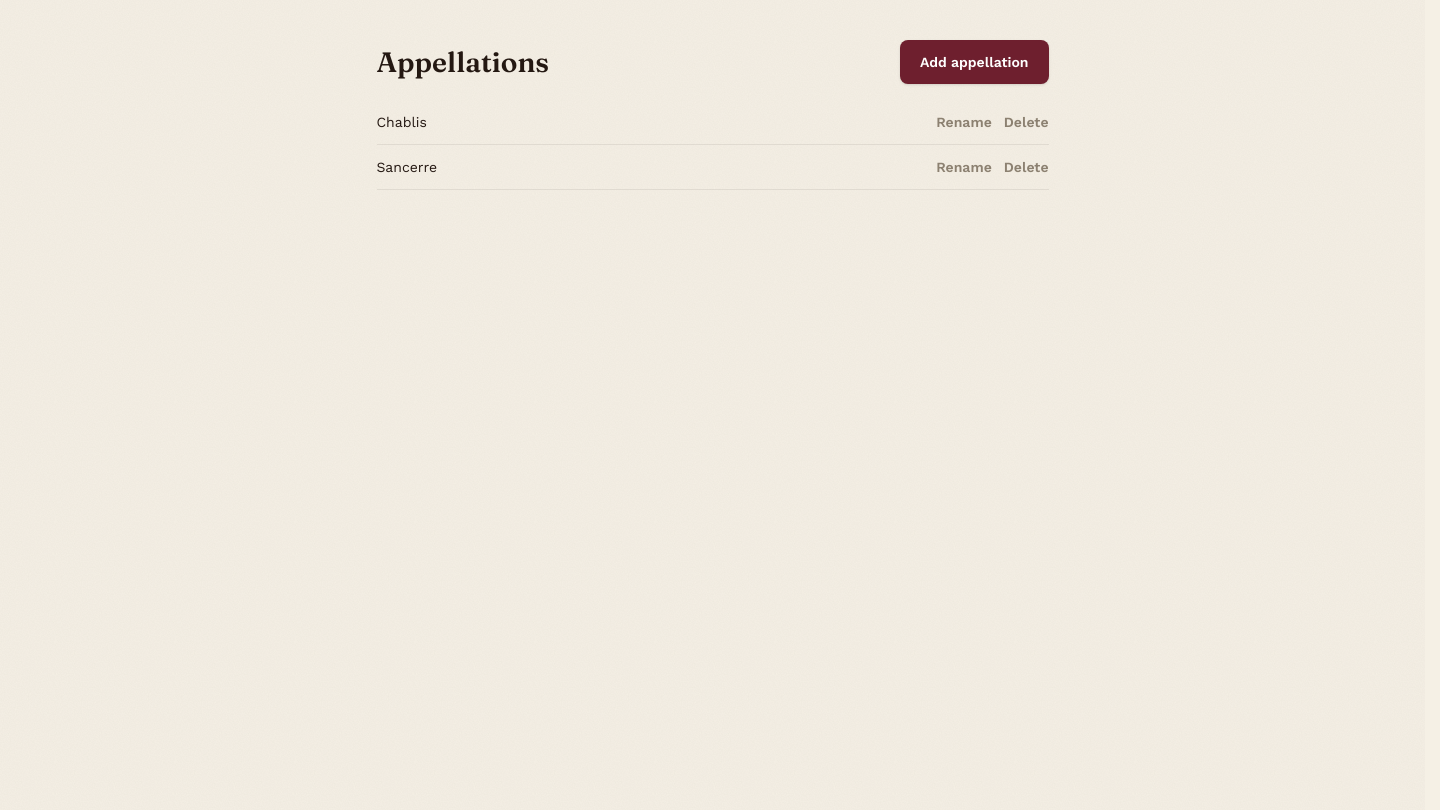
Scenario: AppellationListView › deletes the appellation when the confirm dialog is confirmed
The image size is (1440, 810).
Click the button with test id "appellation-delete-button". click: [1026, 122]
box: [1004, 112, 1049, 132]
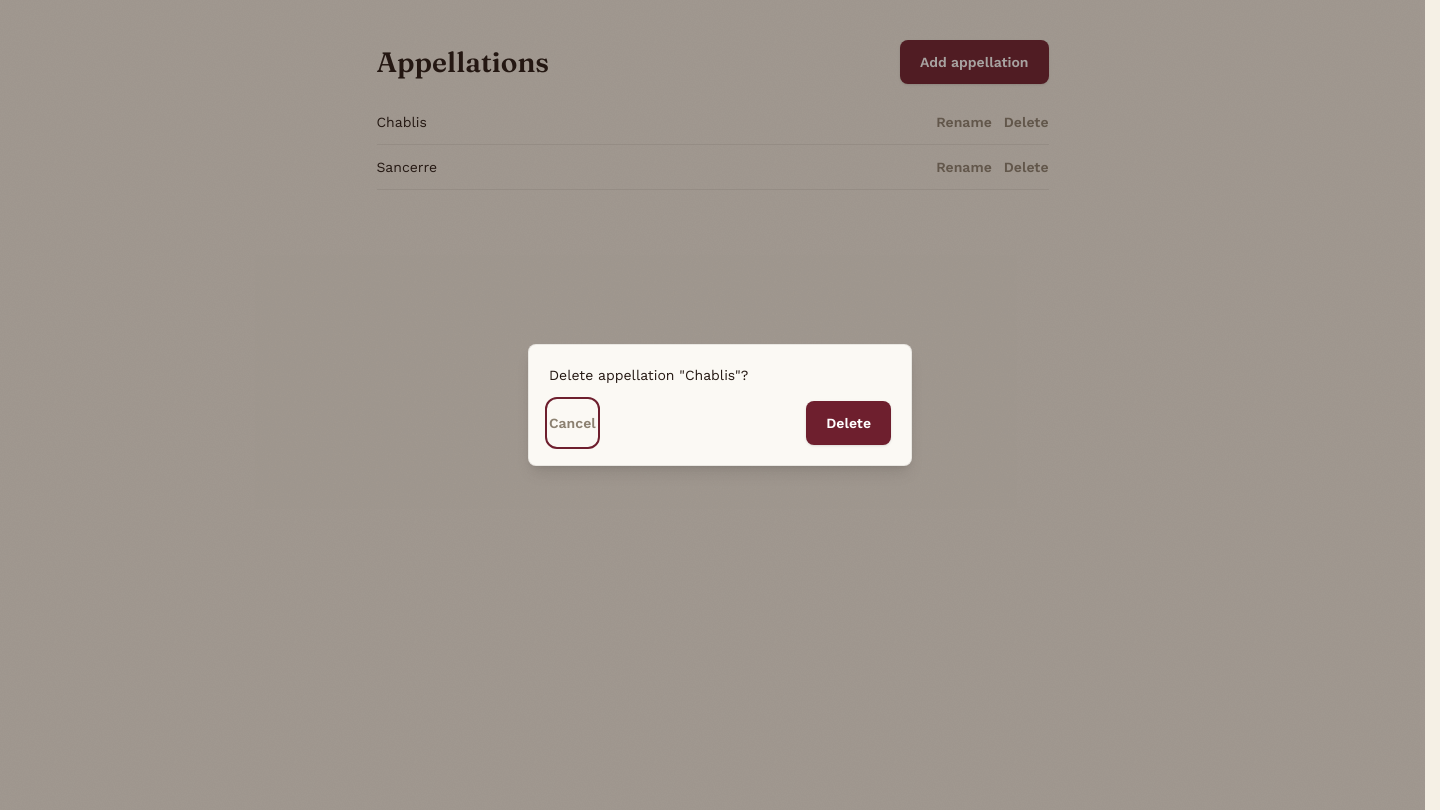
Click the button with test id "confirm-dialog-confirm". click: [849, 423]
box: [806, 401, 891, 445]
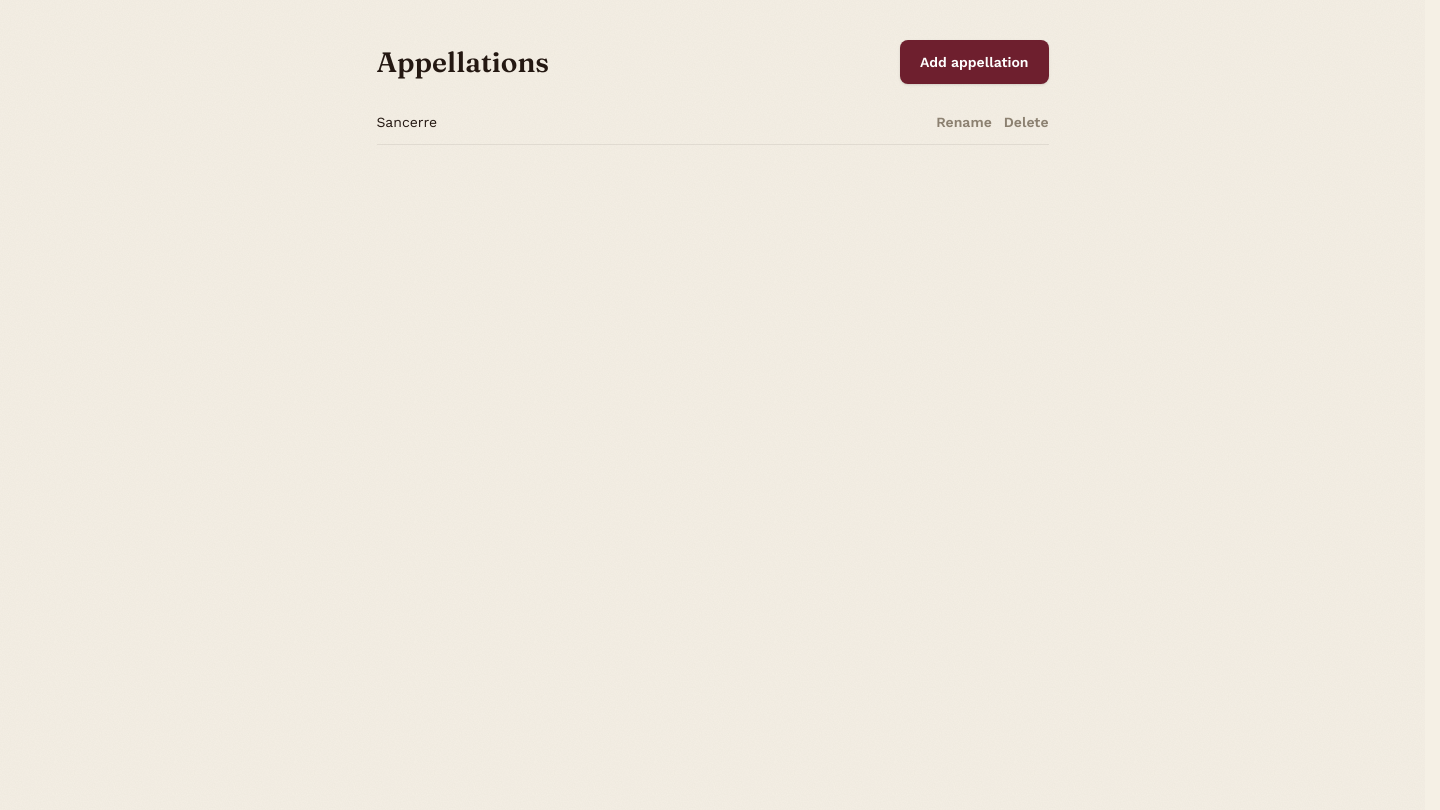
Check: the text "Sancerre" is shown, box [376, 112, 437, 132]
Check: the number of list items with test id "appellation-item" is 1, box [376, 100, 1048, 145]
